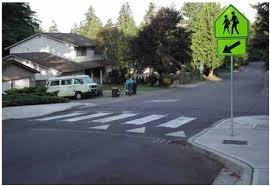Bump: (3, 120, 202, 144)
